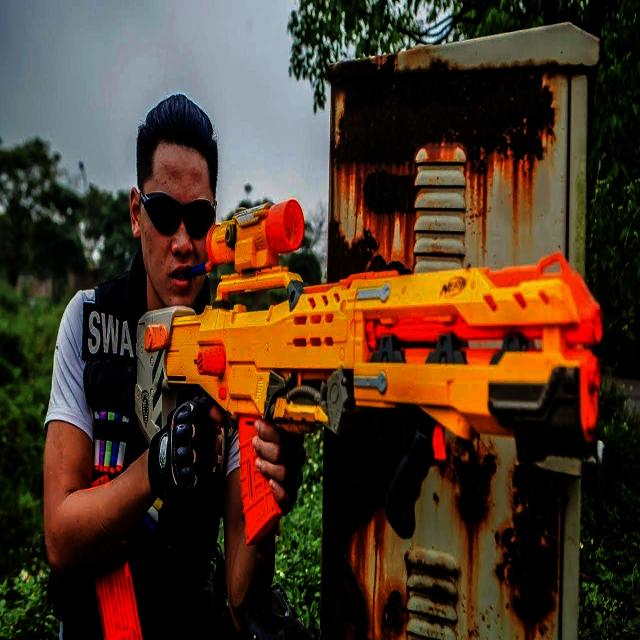Nerf gun: (127, 186, 610, 550)
